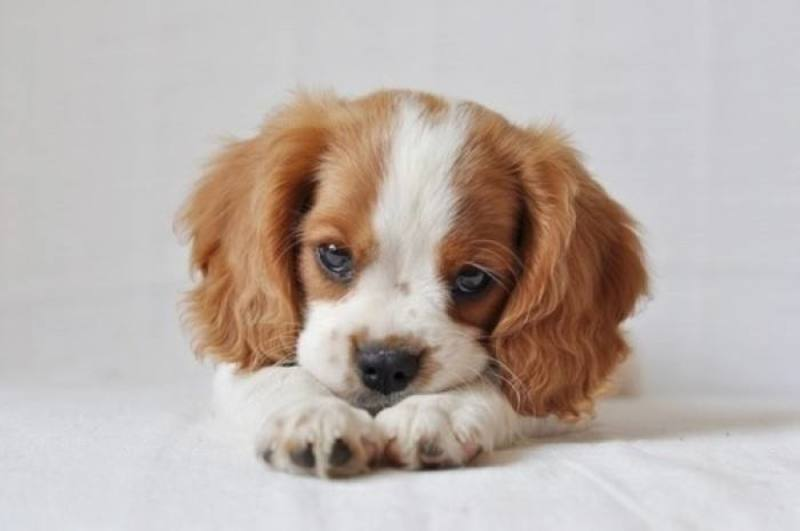dog: (171, 66, 673, 403)
